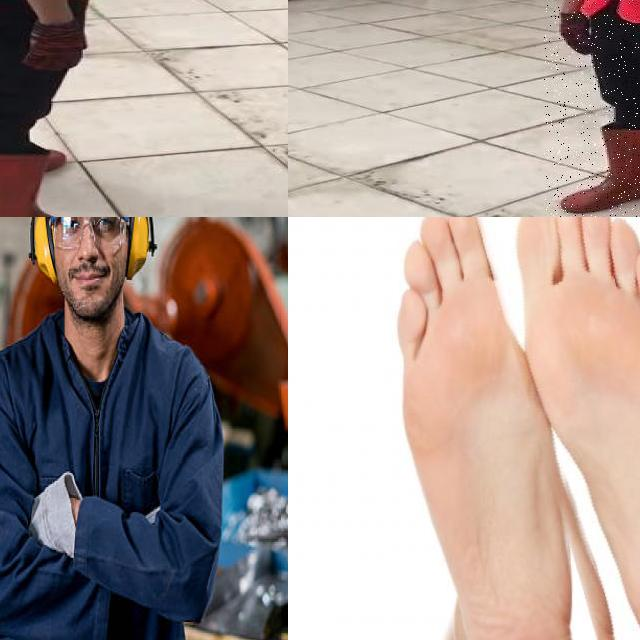Barefoots: (378, 217, 578, 640), (519, 217, 640, 640)
Ear-protection: (30, 217, 58, 281), (130, 217, 153, 278)
boots: (0, 148, 111, 217), (559, 126, 640, 213)
glasses: (46, 217, 131, 250)
hand_glove: (24, 22, 86, 71)
person: (0, 217, 228, 640), (0, 0, 158, 217), (544, 0, 640, 217)
